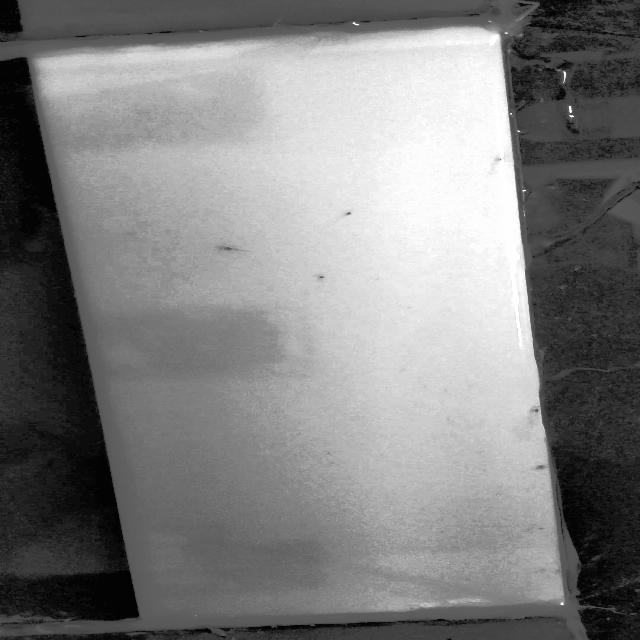shrimp: (331, 200, 363, 223), (208, 241, 245, 258), (306, 268, 334, 284)
